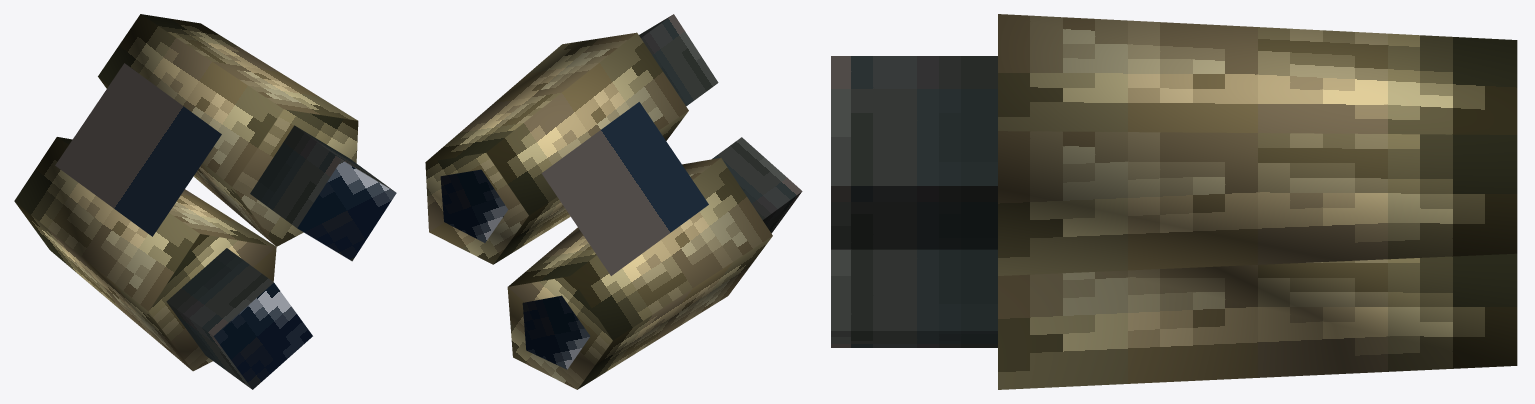
File: Binoculars.glb
3 views of the same model, side by side, from view 1: azimuth 30°, elevation 25°; view 2: azimuth 150°, elevation 25°; view 3: azimuth 270°, elevation 25° (orthographic). The views are drawn at different scales.
Visible parts, largest first — view 1: BINOCULARS; view 2: BINOCULARS; view 3: BINOCULARS.
Part boxes in pixels (x1=…): BINOCULARS: x1=14, y1=14, x2=396, y2=389; BINOCULARS: x1=425, y1=14, x2=802, y2=389; BINOCULARS: x1=831, y1=14, x2=1517, y2=389.
Bounding box in the file's own units: 0.118 × 0.129 × 0.19.
Materials: 1 (1 with a texture image).
